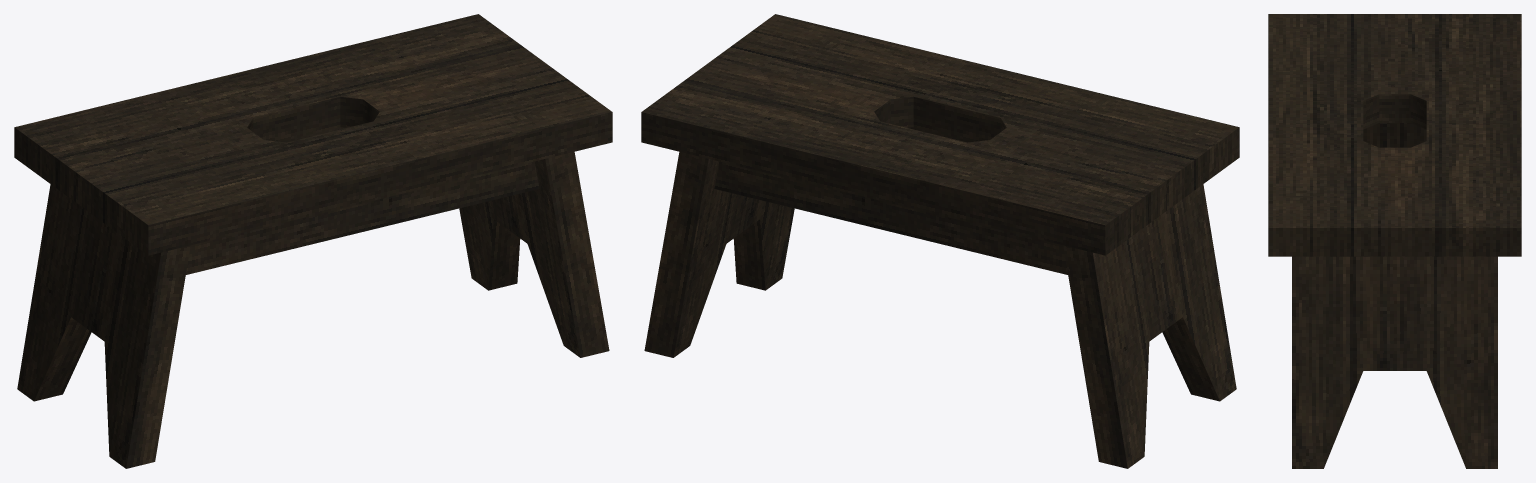
Rendered from stool_mx_1.glb.
3 renders of one model, left to right at view 1: azimuth 30°, elevation 25°; view 2: azimuth 150°, elevation 25°; view 3: azimuth 270°, elevation 25°, orthographic. The views are drawn at different scales.
Parts seen in each view (by area): view 1: stool_mx_1; view 2: stool_mx_1; view 3: stool_mx_1.
Boxes of the visible parts, box(x1,y1,x2,y2) form: stool_mx_1: box(14, 14, 612, 468); stool_mx_1: box(641, 14, 1239, 468); stool_mx_1: box(1268, 14, 1521, 468).
Bounding box in the file's own units: 0.6665 × 0.33 × 0.32.
1 material, 1 textured.
